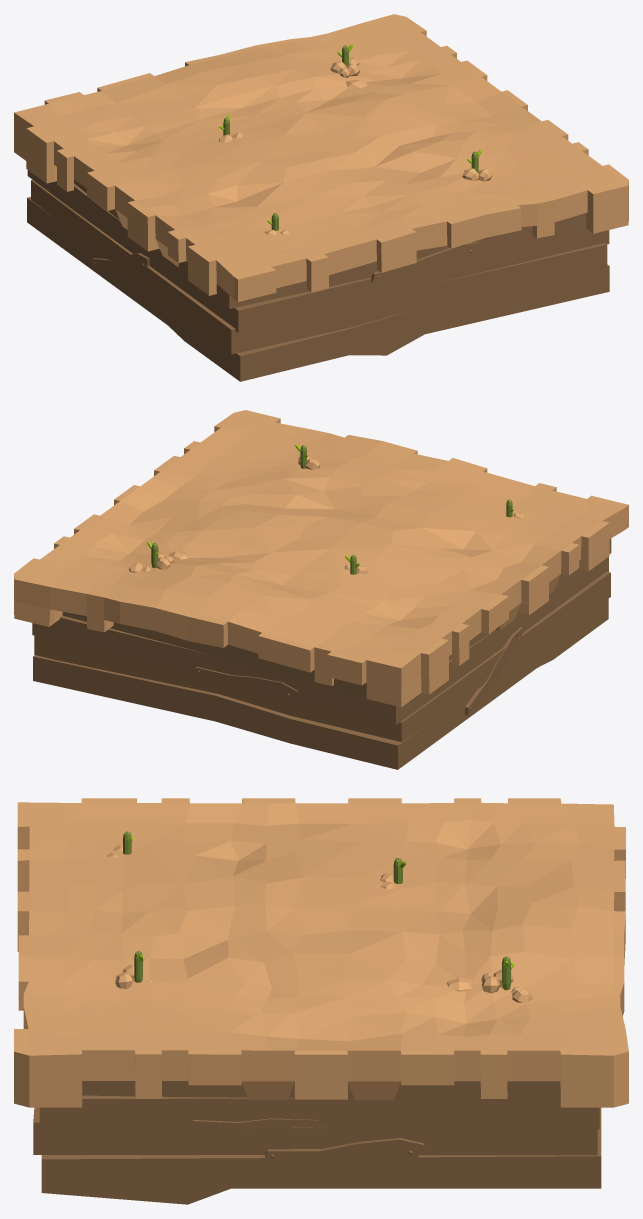
File: farm_desert-tile.glb
3 renders of one model, top to bottom at view 1: azimuth 30°, elevation 25°; view 2: azimuth 150°, elevation 25°; view 3: azimuth 270°, elevation 25°, orthographic. The views are drawn at different scales.
Visible parts, largest first — view 1: desert_tile_0; view 2: desert_tile_0; view 3: desert_tile_0.
Part boxes in pixels (x1,y1,x2,y2): desert_tile_0: (14, 14, 628, 381); desert_tile_0: (14, 410, 628, 769); desert_tile_0: (14, 798, 628, 1204).
Bounding box in the file's own units: 5.11 × 1.92 × 5.18.
